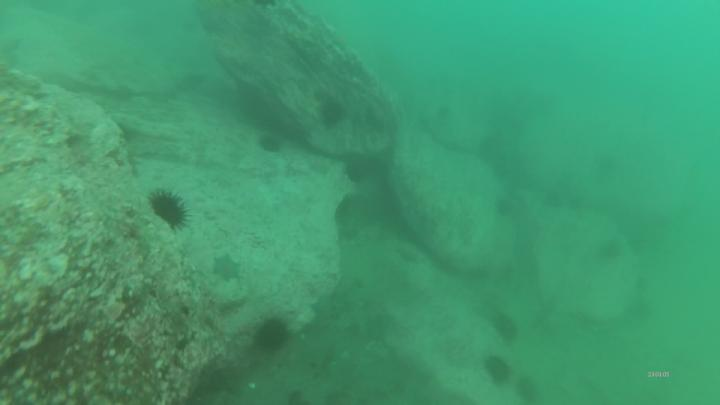echinus: (153, 194, 186, 226), (254, 320, 286, 351), (521, 375, 542, 405), (322, 101, 346, 123), (489, 357, 510, 380), (499, 321, 521, 341), (261, 136, 281, 151)
starfish: (211, 256, 240, 282)
